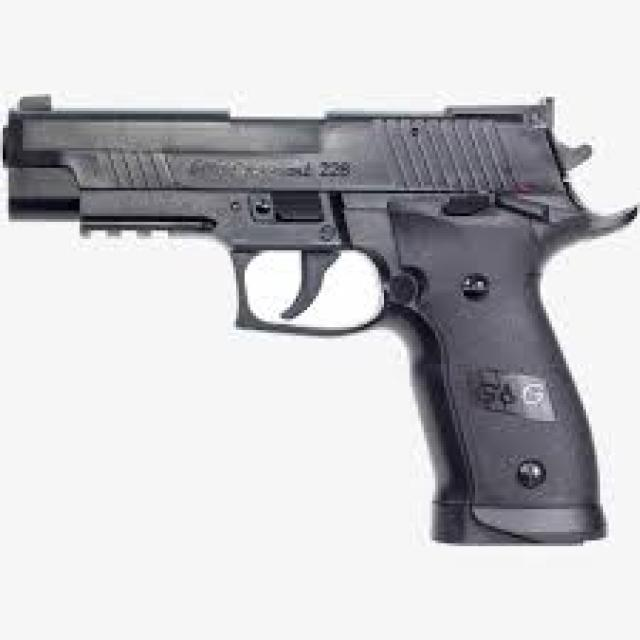pistol: (1, 89, 640, 563)
